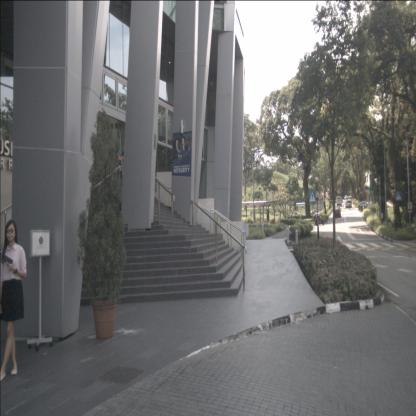human-pedestrian-adult: (0, 218, 28, 383), (266, 209, 270, 223)
vehicle-car: (358, 201, 372, 212), (332, 206, 340, 217), (336, 196, 342, 207), (346, 200, 352, 208)
vehicle-motorcycle: (313, 210, 324, 225)
